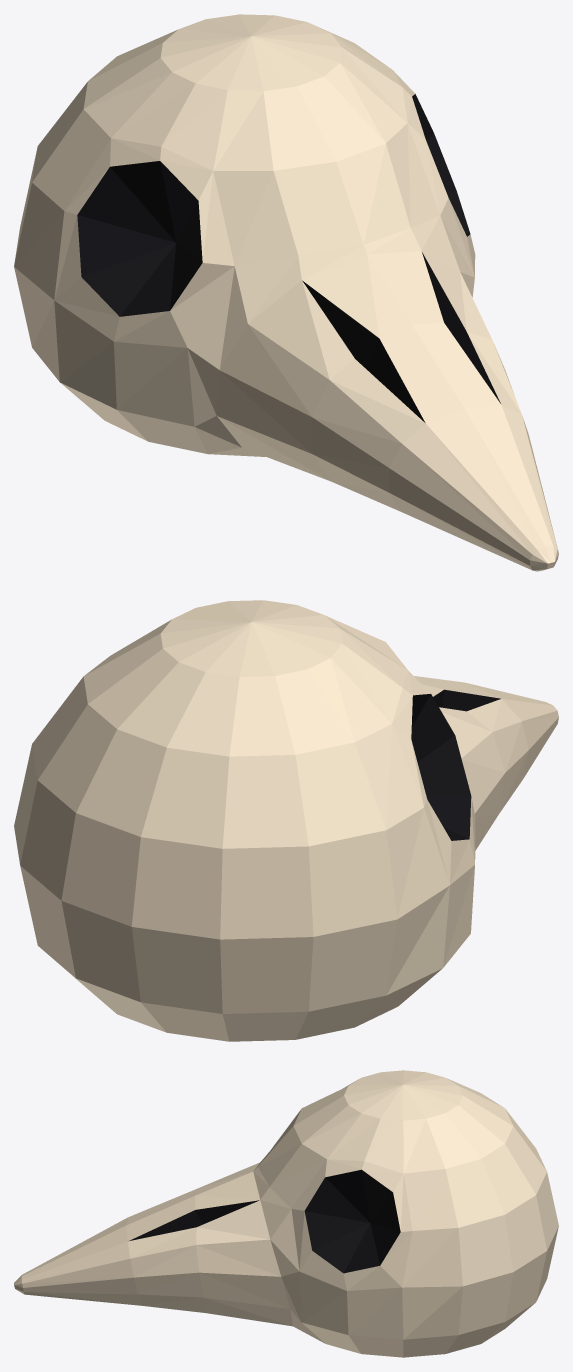
Rendered from Bird_Skull.glb.
The picture shows the model from 3 angles, top to bottom: view 1: azimuth 30°, elevation 25°; view 2: azimuth 150°, elevation 25°; view 3: azimuth 270°, elevation 25°; orthographic projection. The views are drawn at different scales.
Size of the model in its own units: 12.19 by 10.7 by 22.38.
1 material, 1 textured.
